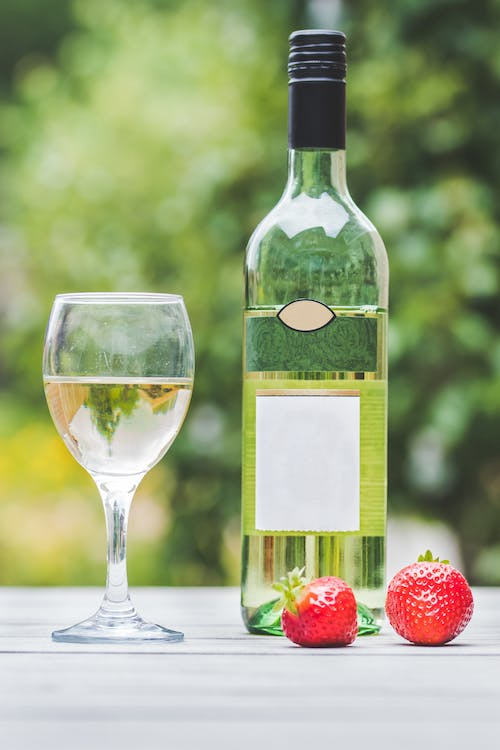alcohol: (238, 28, 390, 638), (39, 290, 197, 646)
